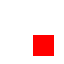square: (33, 35, 53, 55)
